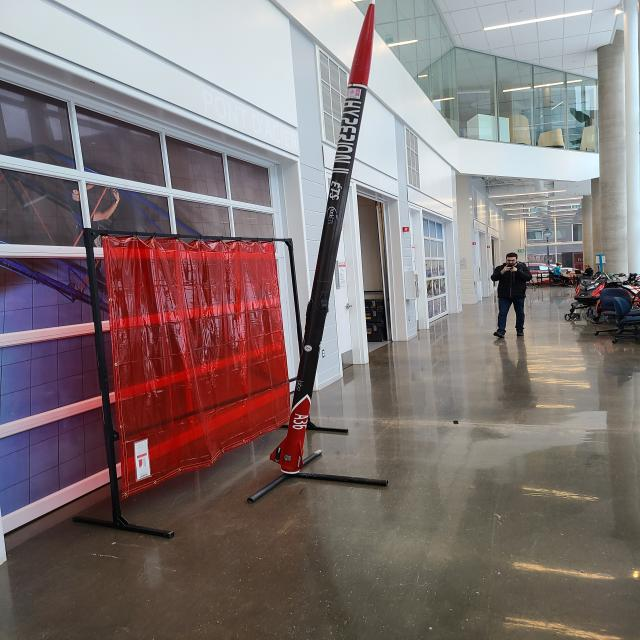Rocket: (270, 0, 376, 472)
